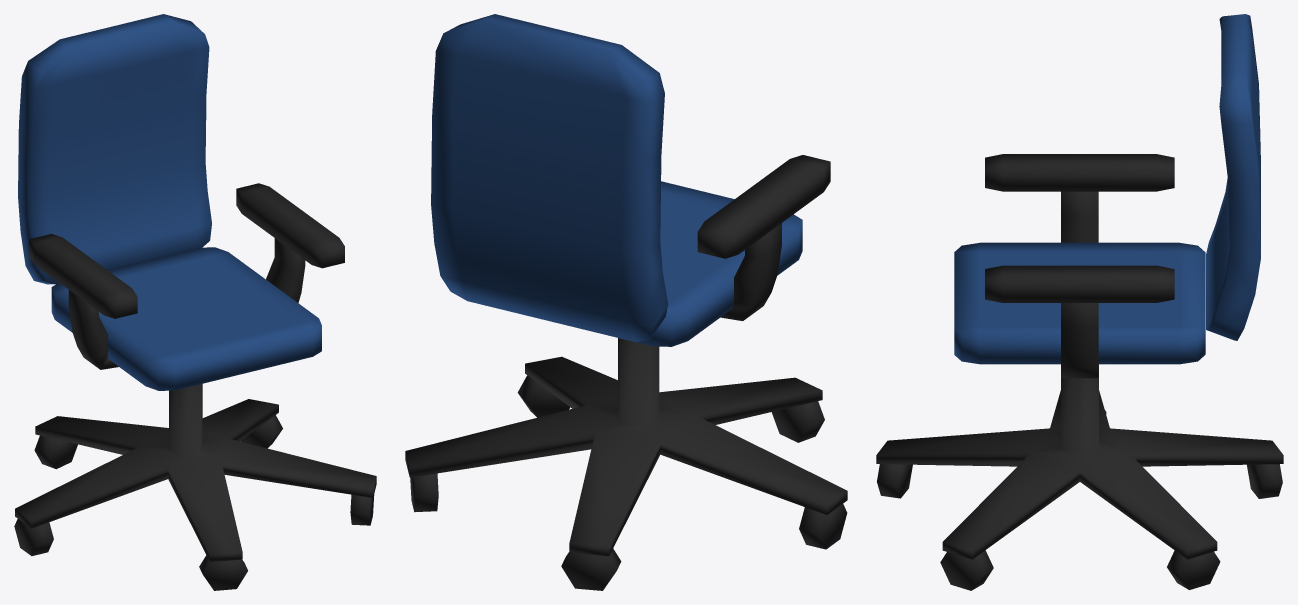
The model's file is Cadeira_Escritorio_Especial.fbx.
The picture shows the model from 3 angles, left to right: view 1: azimuth 30°, elevation 25°; view 2: azimuth 150°, elevation 25°; view 3: azimuth 270°, elevation 25°; orthographic projection. The views are drawn at different scales.
Parts seen in each view (by area): view 1: Cubo.015; view 2: Cubo.015; view 3: Cubo.015.
Part boxes in pixels (bbox=[...]): Cubo.015: bbox=[14, 14, 376, 590]; Cubo.015: bbox=[405, 14, 847, 590]; Cubo.015: bbox=[876, 14, 1283, 590].
Bounding box in the file's own units: 127 × 171 × 133.
